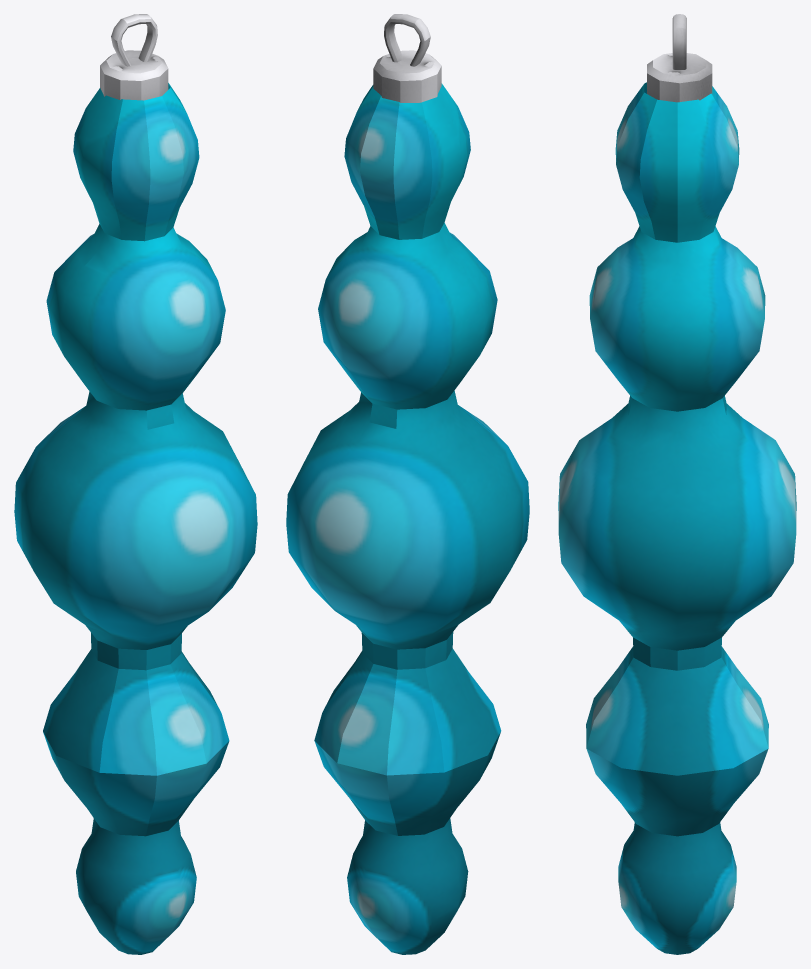
3 renders of one model, left to right at view 1: azimuth 30°, elevation 25°; view 2: azimuth 150°, elevation 25°; view 3: azimuth 270°, elevation 25°, orthographic.
Visible parts, largest first — view 1: V5_Christmas Collection21_V5_Christmas Collection_0; view 2: V5_Christmas Collection21_V5_Christmas Collection_0; view 3: V5_Christmas Collection21_V5_Christmas Collection_0.
Part boxes in pixels (<box>): V5_Christmas Collection21_V5_Christmas Collection_0: <box>14,14,257,954</box>; V5_Christmas Collection21_V5_Christmas Collection_0: <box>286,14,529,954</box>; V5_Christmas Collection21_V5_Christmas Collection_0: <box>558,14,796,954</box>.
Bounding box in the file's own units: 12.78 × 54.22 × 12.62.
1 material, 1 textured.
